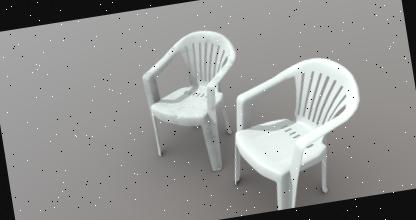chair: (213, 49, 378, 217), (130, 22, 252, 185)
